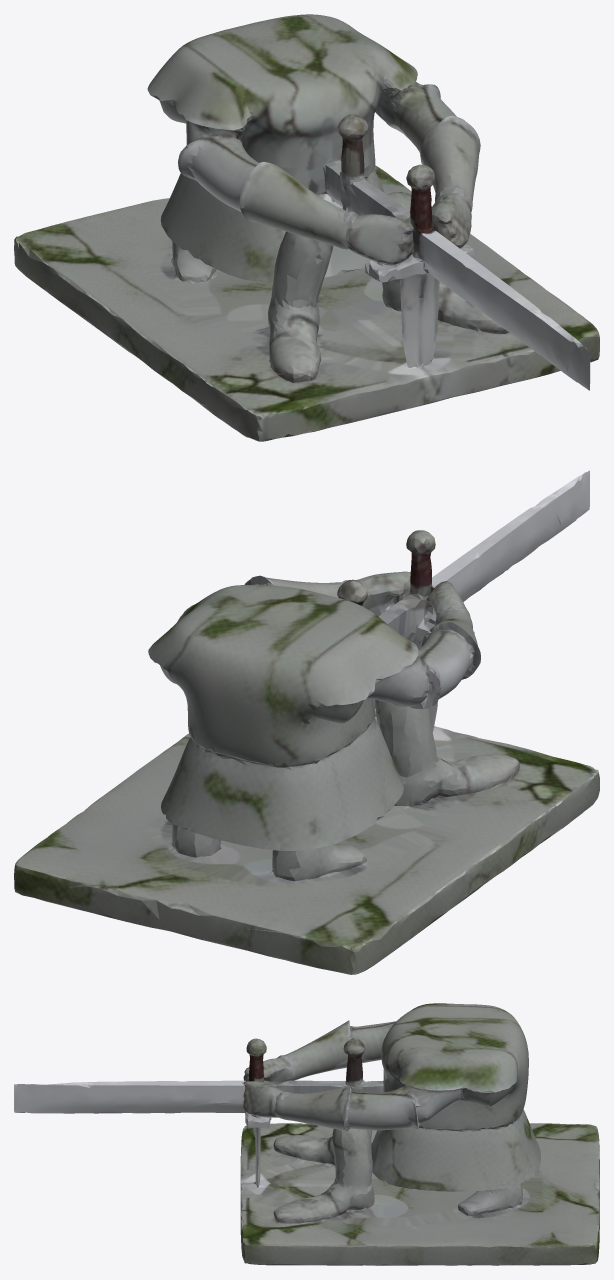
Rendered from rodin_Lab_Sentinel_raw.glb.
3 renders of one model, top to bottom at view 1: azimuth 30°, elevation 25°; view 2: azimuth 150°, elevation 25°; view 3: azimuth 270°, elevation 25°, orthographic. The views are drawn at different scales.
Parts seen in each view (by area): view 1: model; view 2: model; view 3: model.
Boxes of the visible parts, x1=… form: model: x1=14, y1=14, x2=599, y2=441; model: x1=14, y1=470, x2=599, y2=974; model: x1=14, y1=1003, x2=599, y2=1265.
Bounding box in the file's own units: 0.9415 × 0.6301 × 1.89.
Materials: 1 (1 with a texture image).
